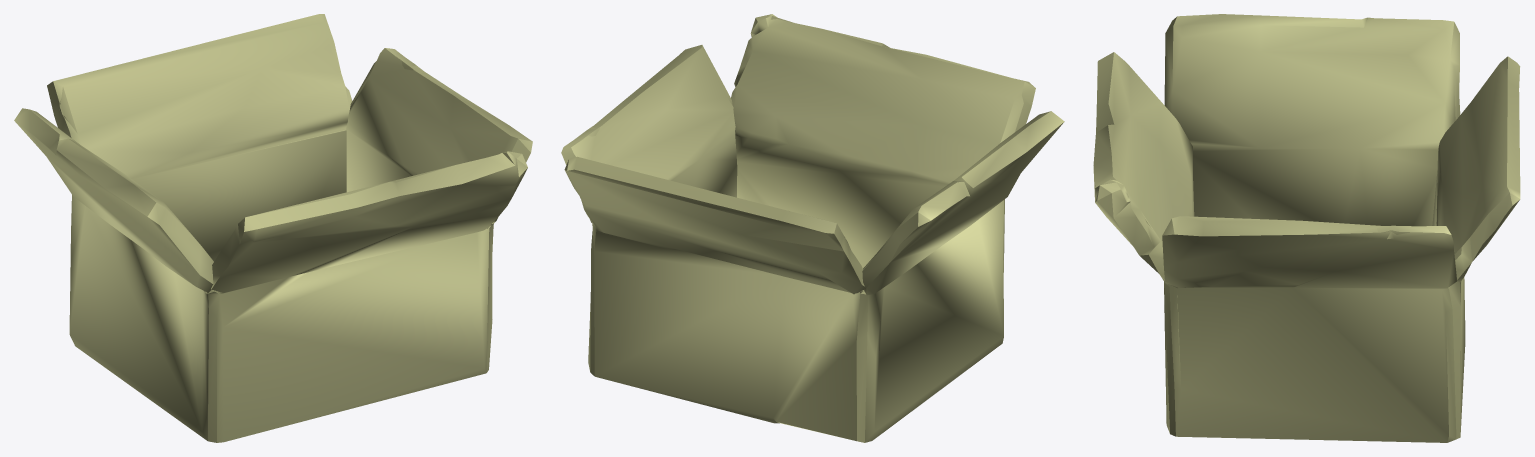
3 views of the same model, side by side, from view 1: azimuth 30°, elevation 25°; view 2: azimuth 150°, elevation 25°; view 3: azimuth 270°, elevation 25° (orthographic). The views are drawn at different scales.
Visible parts, largest first — view 1: Box01; view 2: Box01; view 3: Box01.
Boxes of the visible parts, bbox=[...] form: Box01: bbox=[14, 14, 532, 442]; Box01: bbox=[561, 14, 1064, 442]; Box01: bbox=[1093, 14, 1520, 442].
Size of the model in its own units: 59.35 by 37.7 by 55.05.
